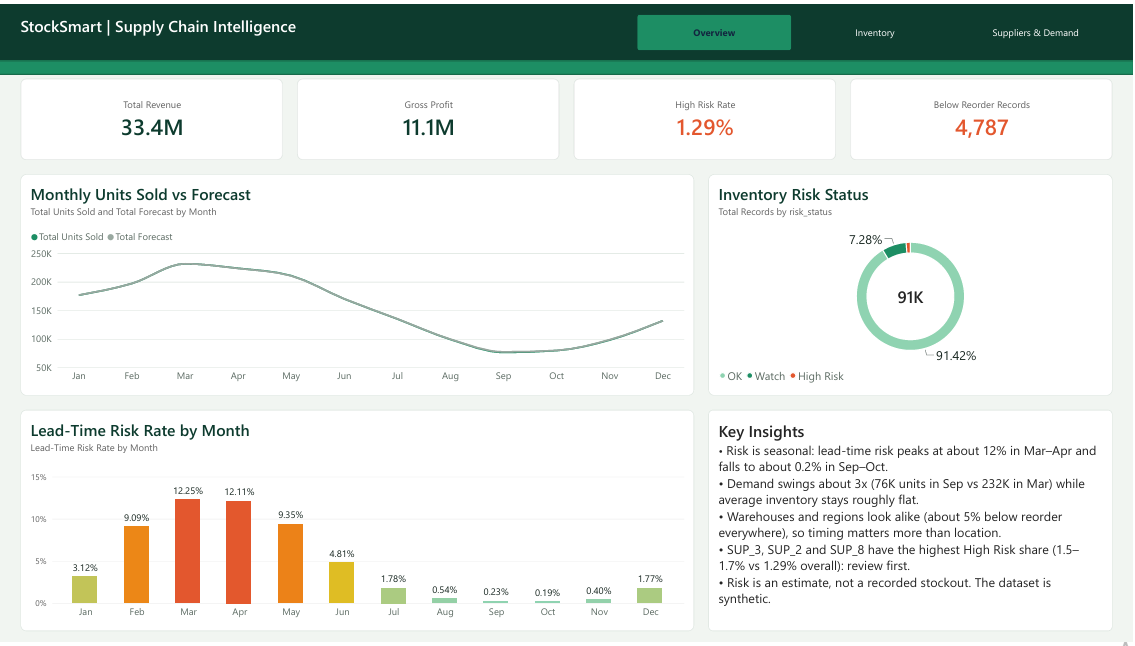

This screenshot's page, from the dashboard's own definition file:
{"tool":"powerbi","page":{"name":"Overview","canvas":[1920,1080],"ordinal":0},"visuals":[{"type":"shape","box":[0,0,1921,96],"z":0},{"type":"textbox","box":[36,18,900,60],"z":1000},{"type":"shape","box":[0,96,1921,23.1],"z":2000},{"type":"pageNavigator","box":[1080,18,804,60],"z":3000},{"type":"cardVisual","fields":{"Data":["inventory_enriched.Total Revenue"]},"box":[36,126,444,138],"z":4000},{"type":"cardVisual","fields":{"Data":["inventory_enriched.Below Reorder Records"]},"box":[1440,126,444,138],"z":5000},{"type":"cardVisual","fields":{"Data":["inventory_enriched.High Risk Rate"]},"box":[972,126,444,138],"z":6000},{"type":"cardVisual","fields":{"Data":["inventory_enriched.Gross Profit"]},"box":[504,126,444,138],"z":7000},{"type":"lineChart","title":"Monthly Units Sold vs Forecast","fields":{"Category":["Calendar.Month"],"Y":["inventory_enriched.Total Units Sold","inventory_enriched.Total Forecast"]},"box":[36,288,1140,375],"z":8000},{"type":"donutChart","title":"Inventory Risk Status","fields":{"Category":["inventory_enriched.risk_status"],"Y":["inventory_enriched.Total Records"]},"box":[1200,288,684,375],"z":9000},{"type":"clusteredColumnChart","title":"Lead-Time Risk Rate by Month","fields":{"Category":["Calendar.Month"],"Y":["inventory_enriched.Lead-Time Risk Rate"]},"box":[36,687,1140,375],"z":10000},{"type":"textbox","box":[1200,687,684,375],"z":11000}]}

Visuals, with their boxes in screenshot pixels (x1, y1, x2, y2), scaled from the page's 1920x1080 canvas onto the 1135x646 screenshot:
shape: box=[0, 0, 1134, 57]
textbox: box=[21, 11, 553, 47]
shape: box=[0, 57, 1134, 71]
pageNavigator: box=[638, 11, 1114, 47]
cardVisual - inventory_enriched.Total Revenue: box=[21, 75, 284, 158]
cardVisual - inventory_enriched.Below Reorder Records: box=[851, 75, 1114, 158]
cardVisual - inventory_enriched.High Risk Rate: box=[575, 75, 837, 158]
cardVisual - inventory_enriched.Gross Profit: box=[298, 75, 560, 158]
"Monthly Units Sold vs Forecast" lineChart: box=[21, 172, 695, 397]
"Inventory Risk Status" donutChart: box=[709, 172, 1114, 397]
"Lead-Time Risk Rate by Month" clusteredColumnChart: box=[21, 411, 695, 635]
textbox: box=[709, 411, 1114, 635]
